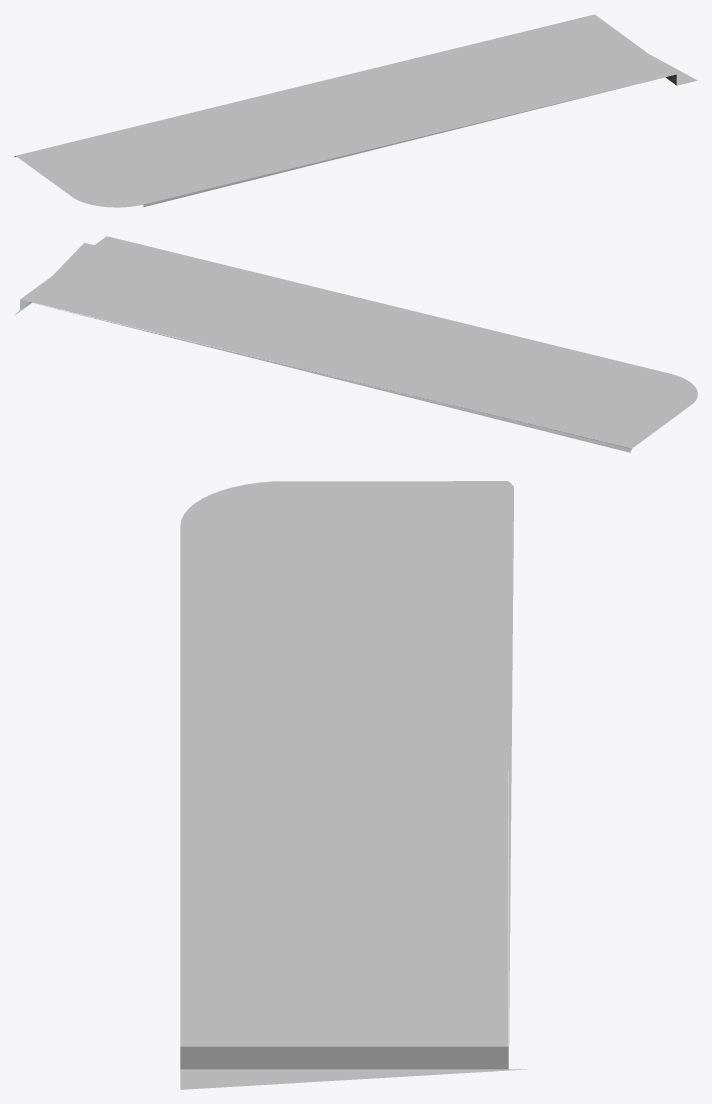
The picture shows the model from 3 angles, top to bottom: view 1: azimuth 30°, elevation 25°; view 2: azimuth 150°, elevation 25°; view 3: azimuth 270°, elevation 25°; orthographic projection. The views are drawn at different scales.
Size of the model in its own units: 0.1754 by 0.00317 by 0.0444.
